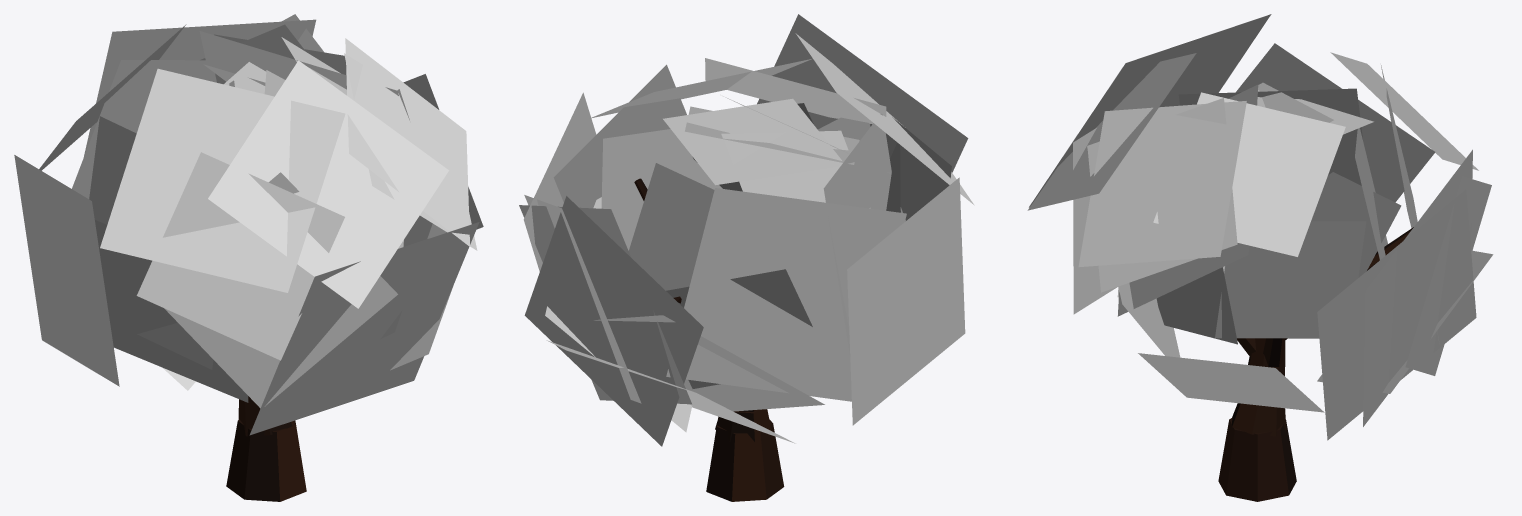
File: leafy-round.glb
3 renders of one model, left to right at view 1: azimuth 30°, elevation 25°; view 2: azimuth 150°, elevation 25°; view 3: azimuth 270°, elevation 25°, orthographic. The views are drawn at different scales.
Parts seen in each view (by area): view 1: crown, trunk; view 2: crown, trunk; view 3: crown, trunk.
Boxes of the visible parts, x1,y1,x2,y2 form: crown: (14,14,483,435); trunk: (226,396,306,501); crown: (519,14,974,446); trunk: (634,178,784,501); crown: (1027,14,1493,440); trunk: (1218,227,1413,501).
Bounding box in the file's own units: 4.47 × 4.46 × 4.5.
